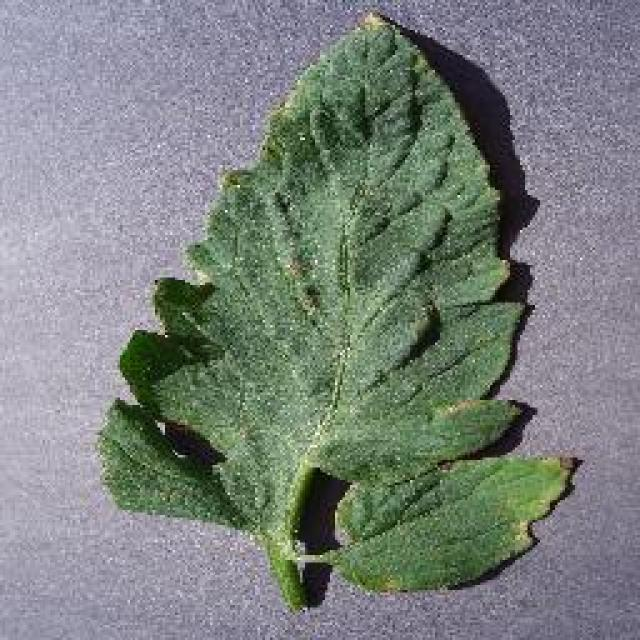Tom_Target_Spot: (428, 388, 504, 482), (268, 218, 334, 316)
